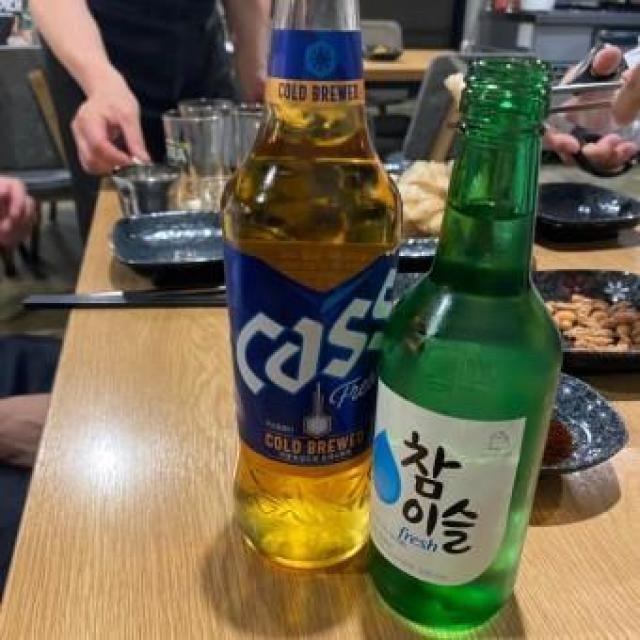beer-bottle: (221, 0, 390, 570)
soju-bottle: (362, 54, 586, 628)
